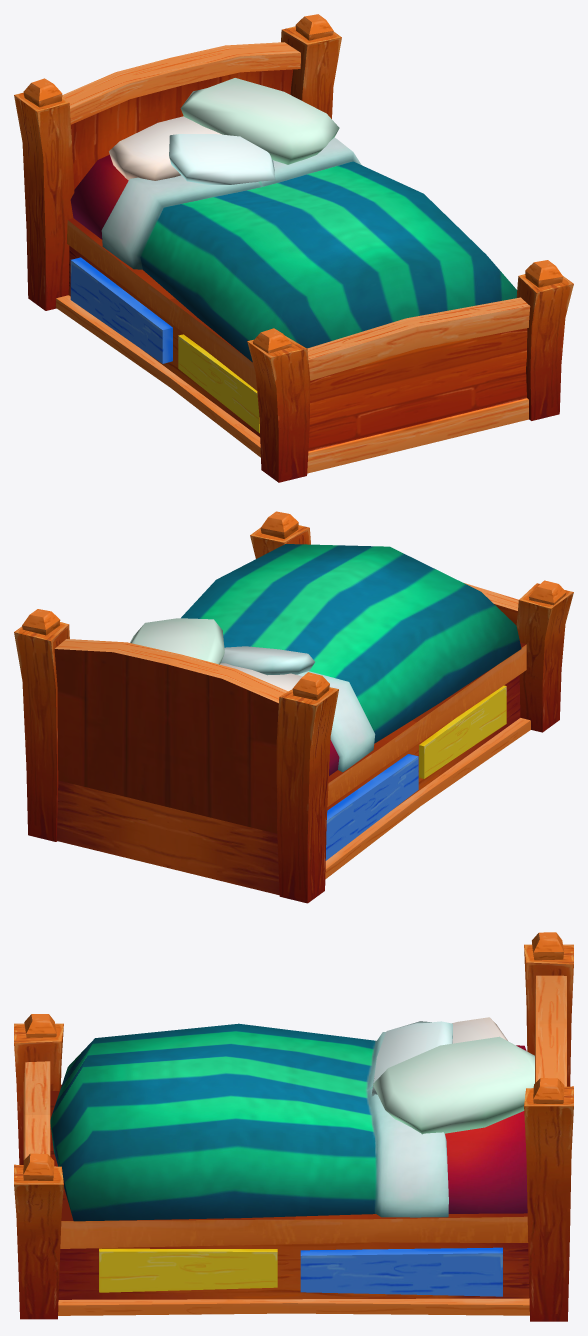
File: bedGenericLv5.fbx
The picture shows the model from 3 angles, top to bottom: view 1: azimuth 30°, elevation 25°; view 2: azimuth 150°, elevation 25°; view 3: azimuth 270°, elevation 25°; orthographic projection. The views are drawn at different scales.
Visible parts, largest first — view 1: pCube142, pCube141, pCube125, pCube137, pCube140, pCube143, pCube139, pCube138, pCube136, pCube127, pCube131, pPyramid7 (+3 smaller); view 2: pCube125, pCube142, pCube137, pCube140, pCube131, pCube139, pCube143, pCube136, pCube138, pPyramid5, pPyramid7, pPyramid2 (+3 smaller); view 3: pCube142, pCube137, pCube125, pCube143, pCube131, pCube138, pCube141, pCube139, pCube136, pCube140, pCube127, pPyramid7 (+3 smaller).
Part boxes in pixels (x1,y1,x2,y2): pCube142: (70, 137, 517, 362); pCube141: (307, 297, 530, 473); pCube125: (62, 42, 300, 390); pCube137: (56, 246, 260, 457); pCube140: (14, 92, 74, 310); pCube143: (180, 78, 339, 164); pCube139: (247, 336, 310, 482); pCube138: (516, 274, 573, 420); pCube136: (169, 134, 275, 184); pCube127: (109, 116, 221, 180); pCube131: (281, 26, 341, 118); pPyramid7: (23, 78, 62, 107); pCube125: (54, 639, 526, 833); pCube142: (181, 544, 521, 775); pCube137: (56, 675, 530, 895); pCube140: (276, 687, 338, 903); pCube131: (14, 622, 69, 841); pCube139: (516, 583, 573, 732); pCube143: (130, 618, 224, 664); pCube136: (221, 646, 314, 675); pCube138: (250, 525, 310, 558); pPyramid5: (260, 511, 298, 538); pPyramid7: (292, 672, 329, 700); pPyramid2: (22, 609, 60, 635); pCube142: (50, 1023, 527, 1221); pCube137: (58, 1242, 529, 1315); pCube125: (50, 975, 566, 1248); pCube143: (373, 1036, 534, 1134); pCube131: (524, 1086, 573, 1321); pCube138: (14, 1164, 63, 1319); pCube141: (23, 1061, 50, 1159); pCube139: (14, 1023, 63, 1164); pCube136: (371, 1021, 452, 1096); pCube140: (524, 944, 573, 1086); pCube127: (452, 1017, 507, 1043); pPyramid7: (532, 932, 563, 960).
Bounding box in the file's own units: 6.12 × 4.21 × 8.92.
